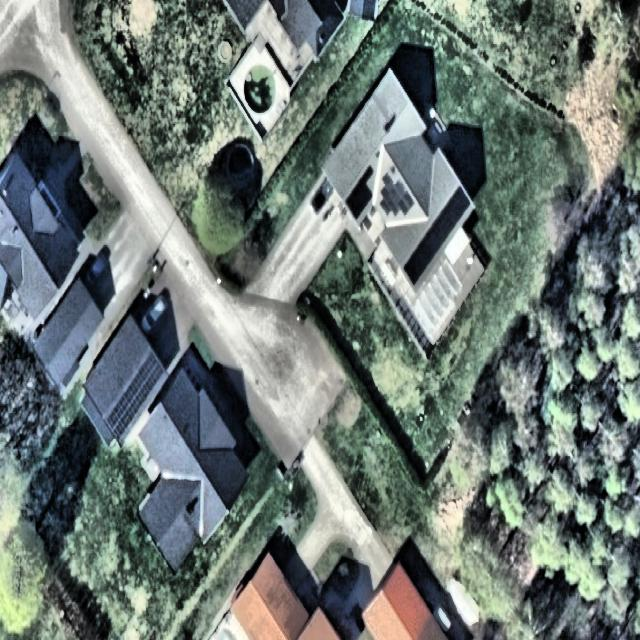roof_pv: (133, 349, 165, 414), (374, 170, 414, 217), (108, 372, 133, 446), (443, 182, 471, 240), (424, 210, 444, 268), (402, 238, 424, 288)
